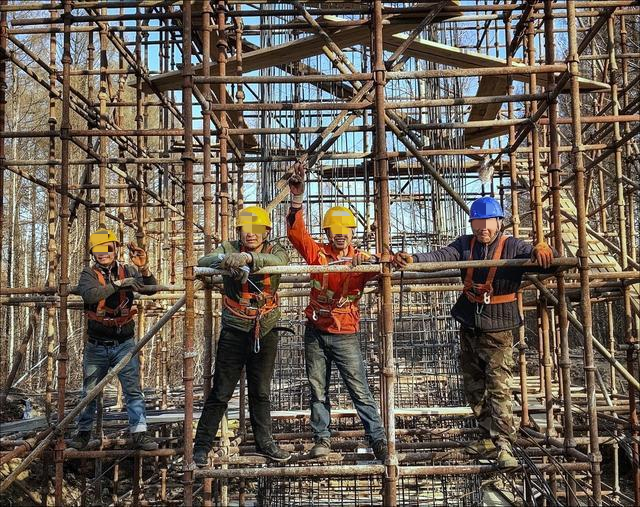helmet: (235, 206, 271, 230), (469, 197, 504, 219), (88, 229, 119, 251), (323, 206, 355, 227)
person: (392, 196, 558, 471), (286, 160, 398, 458), (197, 206, 293, 466), (78, 226, 158, 448)
vest: (228, 241, 278, 315), (311, 246, 359, 315), (87, 261, 132, 325)
